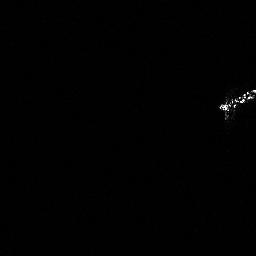ship: (216, 87, 256, 122)
